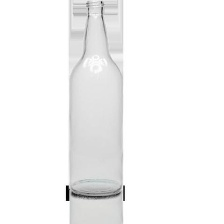bottle: (64, 0, 126, 200)
